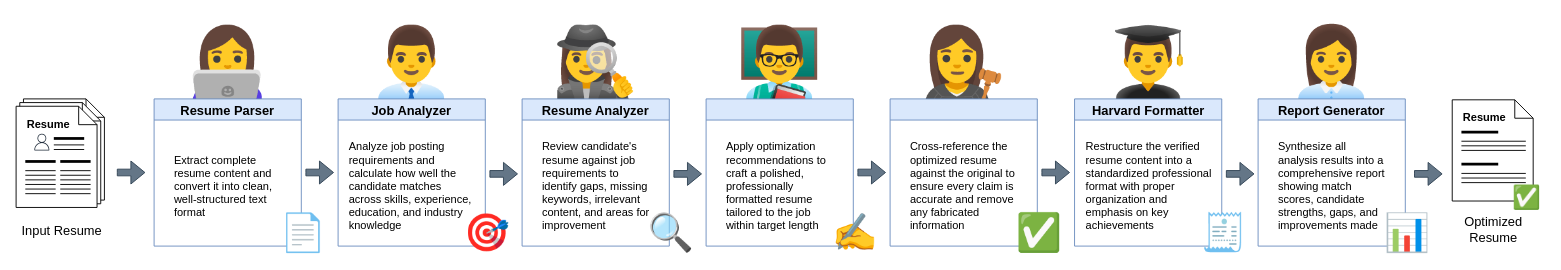
This 1561x270 diagram has some shape labels left out. The box of each missing label's shape, as (x1, y1, x2, y2) in pixels:
Fact Checker: (889, 98, 1037, 246)
Resume Writer: (705, 98, 853, 246)
